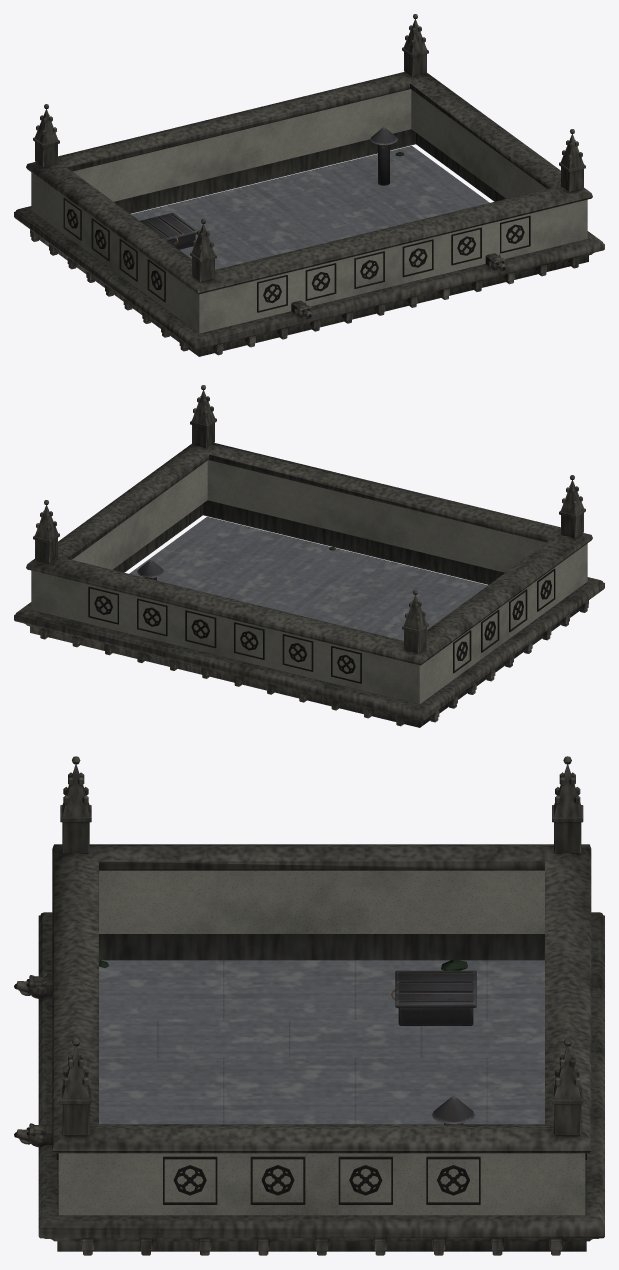
File: FlatRoofParapet.fbx
The picture shows the model from 3 angles, top to bottom: view 1: azimuth 30°, elevation 25°; view 2: azimuth 150°, elevation 25°; view 3: azimuth 270°, elevation 25°; orthographic projection. The views are drawn at different scales.
Parts seen in each view (by area): view 1: FlatRoofParapet_Main, FlatRoofParapet_Stone, FlatRoofParapet_Lead; view 2: FlatRoofParapet_Main, FlatRoofParapet_Stone, FlatRoofParapet_Lead; view 3: FlatRoofParapet_Main, FlatRoofParapet_Lead, FlatRoofParapet_Stone.
Boxes of the visible parts, <box> form: FlatRoofParapet_Main: <box>14,14,604,356</box>; FlatRoofParapet_Stone: <box>31,89,587,333</box>; FlatRoofParapet_Lead: <box>131,145,489,269</box>; FlatRoofParapet_Main: <box>14,385,604,727</box>; FlatRoofParapet_Stone: <box>31,460,587,704</box>; FlatRoofParapet_Lead: <box>129,516,487,640</box>; FlatRoofParapet_Main: <box>14,756,604,1255</box>; FlatRoofParapet_Lead: <box>99,960,544,1124</box>; FlatRoofParapet_Stone: <box>58,870,585,1215</box>.
Bounding box in the file's own units: 1690 × 516 × 1346.
